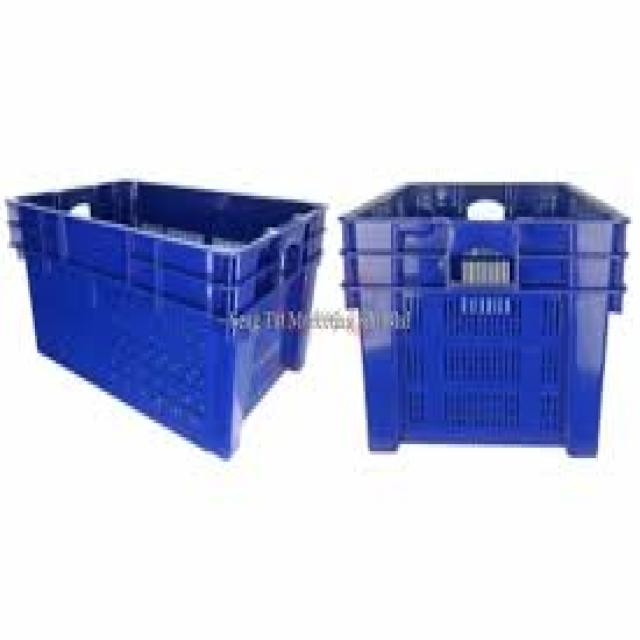basket: (0, 162, 330, 465), (339, 179, 628, 459)
